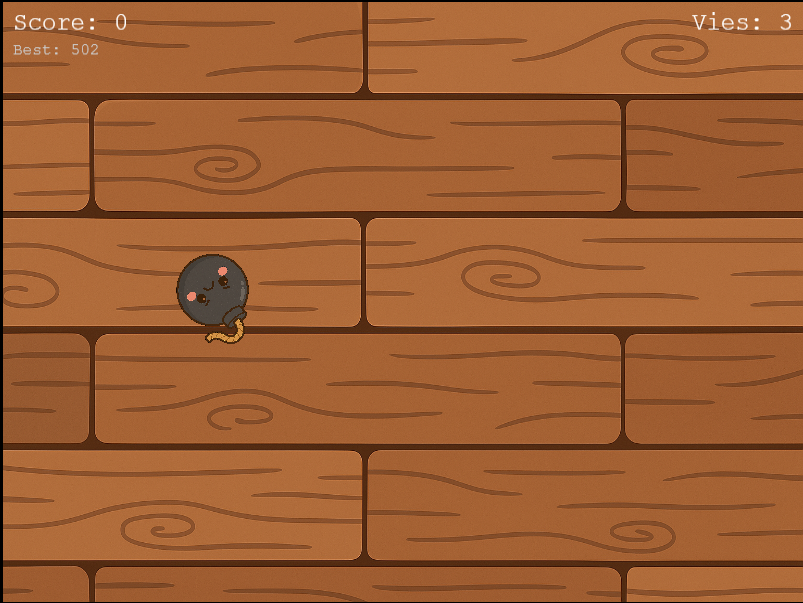bomb: (168, 247, 258, 348)
